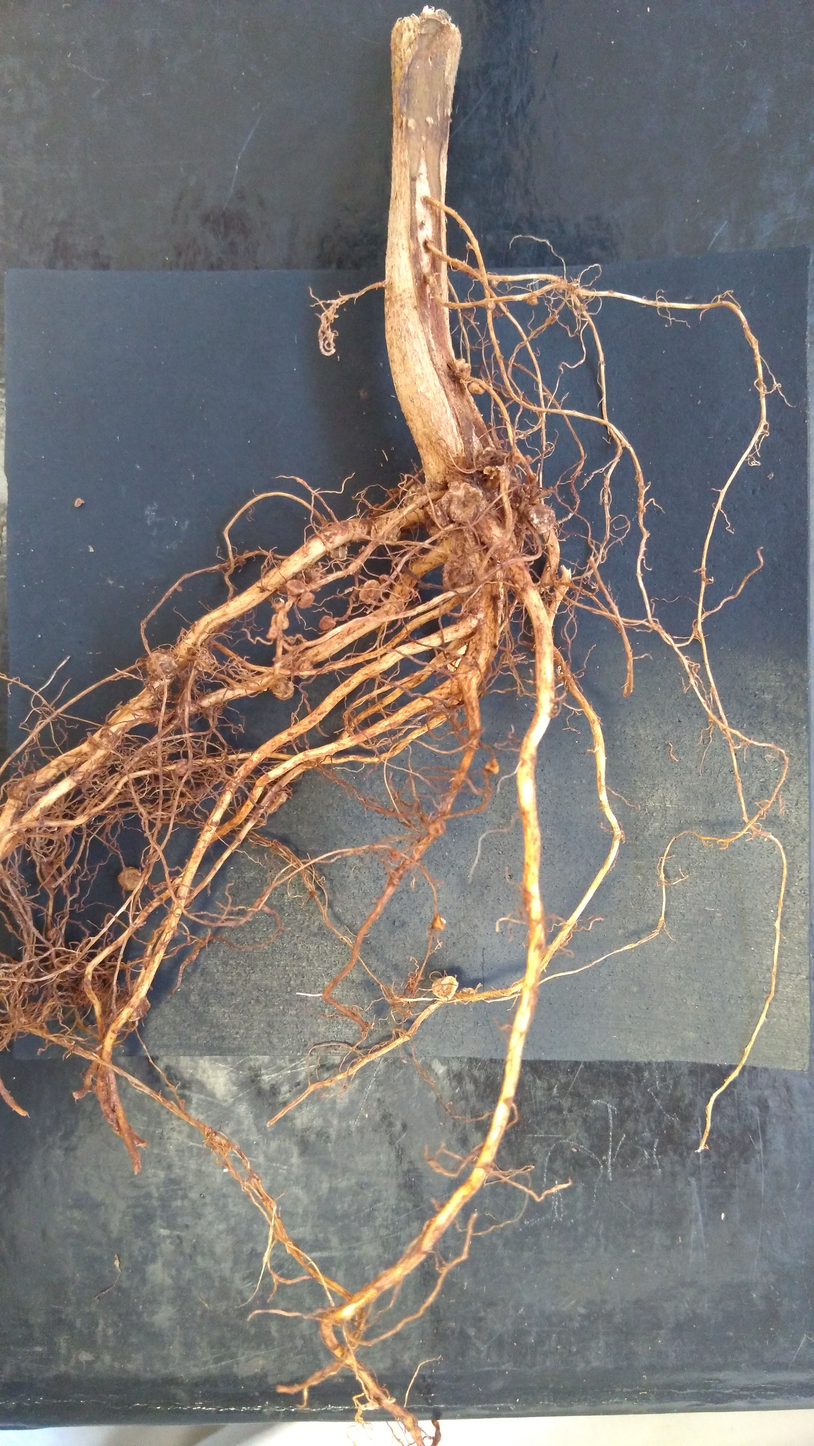nodule: (441, 482, 483, 525), (422, 503, 448, 539), (527, 504, 557, 534), (369, 518, 402, 545), (145, 651, 178, 676), (446, 639, 469, 672), (431, 975, 458, 1002), (300, 566, 326, 593), (117, 866, 143, 891), (401, 482, 424, 509), (270, 676, 295, 700), (358, 579, 381, 604), (128, 996, 149, 1022), (267, 791, 288, 814), (440, 557, 454, 591), (450, 566, 473, 585), (285, 579, 308, 596), (192, 649, 213, 667), (427, 820, 447, 836), (467, 379, 487, 395), (318, 615, 336, 632), (327, 545, 347, 560), (297, 593, 315, 609), (297, 661, 313, 679), (431, 913, 446, 932), (427, 700, 447, 714), (477, 446, 494, 461), (484, 758, 499, 775), (446, 691, 463, 706), (175, 758, 189, 776), (459, 362, 472, 381), (472, 606, 488, 619), (266, 625, 280, 639), (378, 574, 391, 588), (467, 268, 482, 279), (524, 473, 539, 484), (458, 986, 476, 995), (454, 357, 466, 370), (279, 617, 290, 629), (512, 453, 523, 465), (273, 602, 286, 612), (525, 296, 538, 306), (47, 927, 57, 939), (390, 848, 400, 860), (270, 614, 279, 627), (484, 302, 497, 311), (74, 498, 85, 508), (577, 288, 587, 299), (576, 305, 587, 315), (545, 316, 558, 324), (371, 503, 380, 511), (465, 242, 473, 251), (490, 279, 498, 288), (525, 455, 533, 464), (388, 487, 397, 494)
